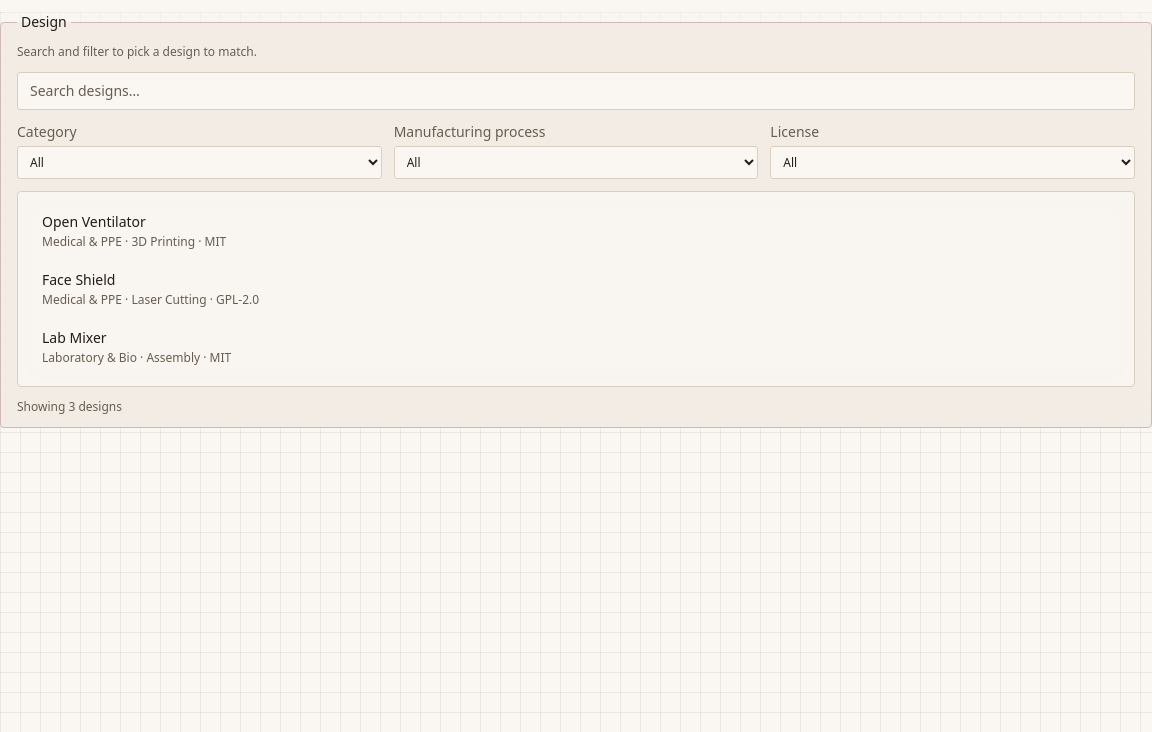
DesignPicker › filters by category facet
Select "Laboratory & Bio (1)" in the dropdown labelled "Category" at (199, 162), box x1=17 y1=146 x2=382 y2=179
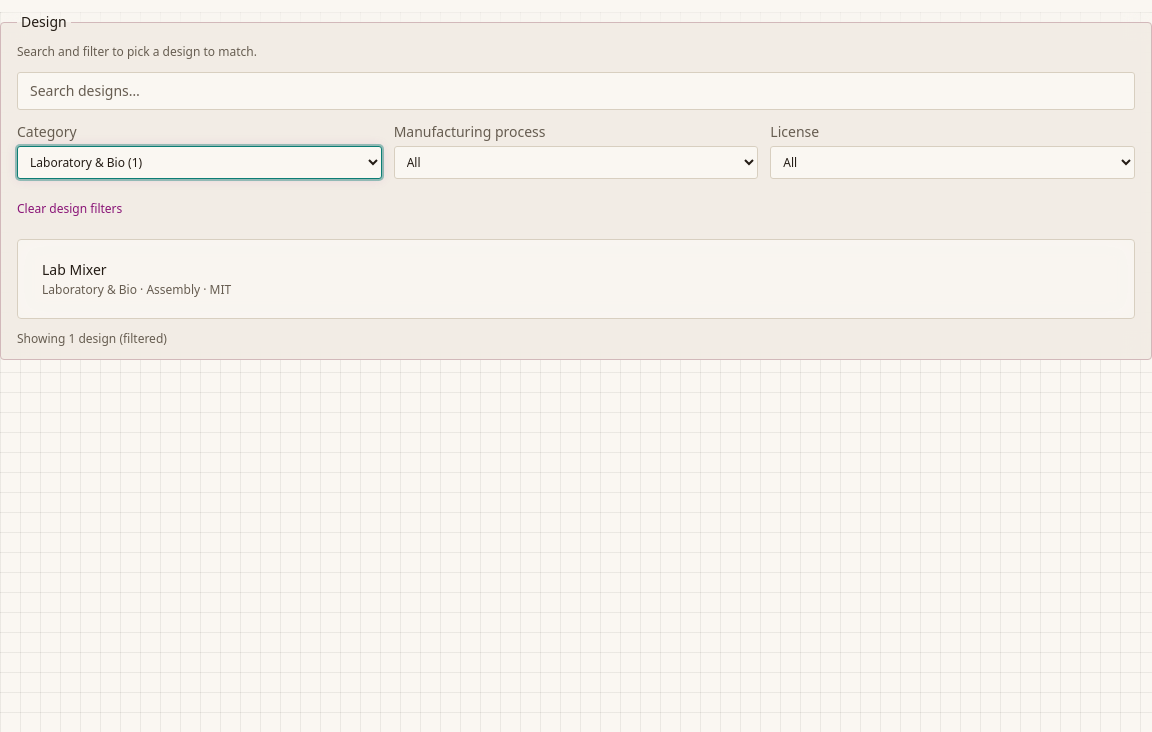
Expected: the option "Lab Mixer Laboratory & Bio · Assembly · MIT" is shown, x1=30 y1=252 x2=1122 y2=306
Now the option "Open Ventilator" is gone
